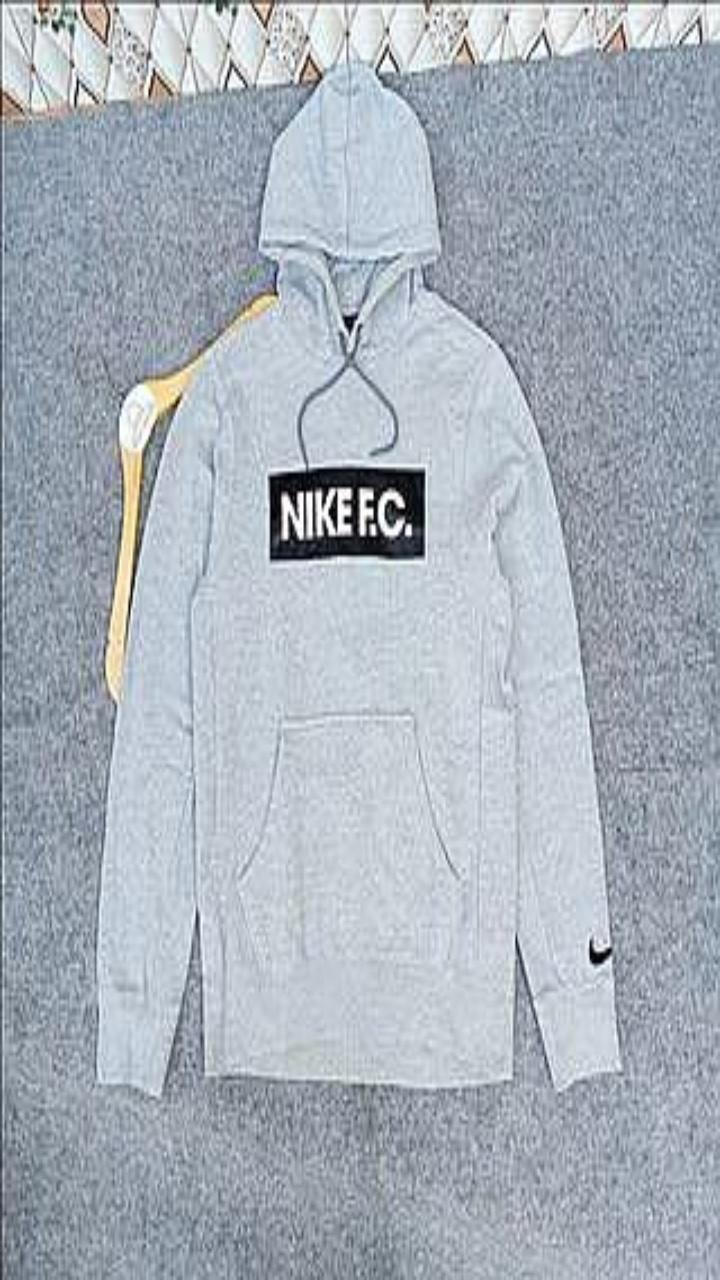Hoodie: (97, 64, 619, 1094)
